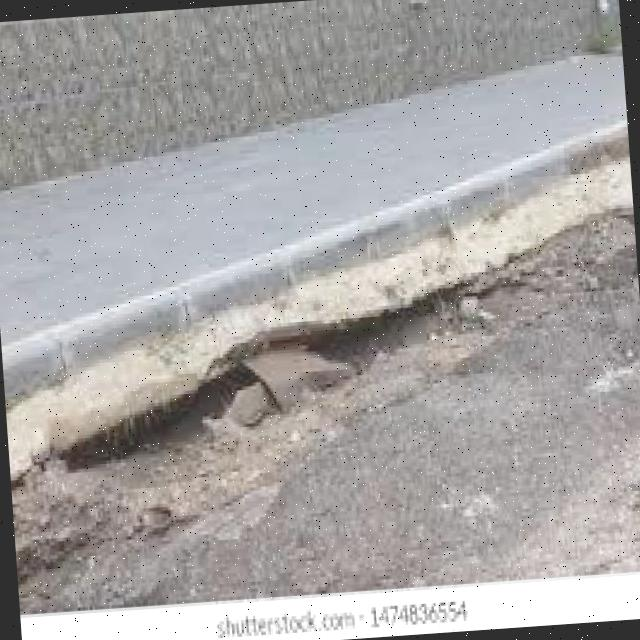curb: (2, 126, 611, 406)
